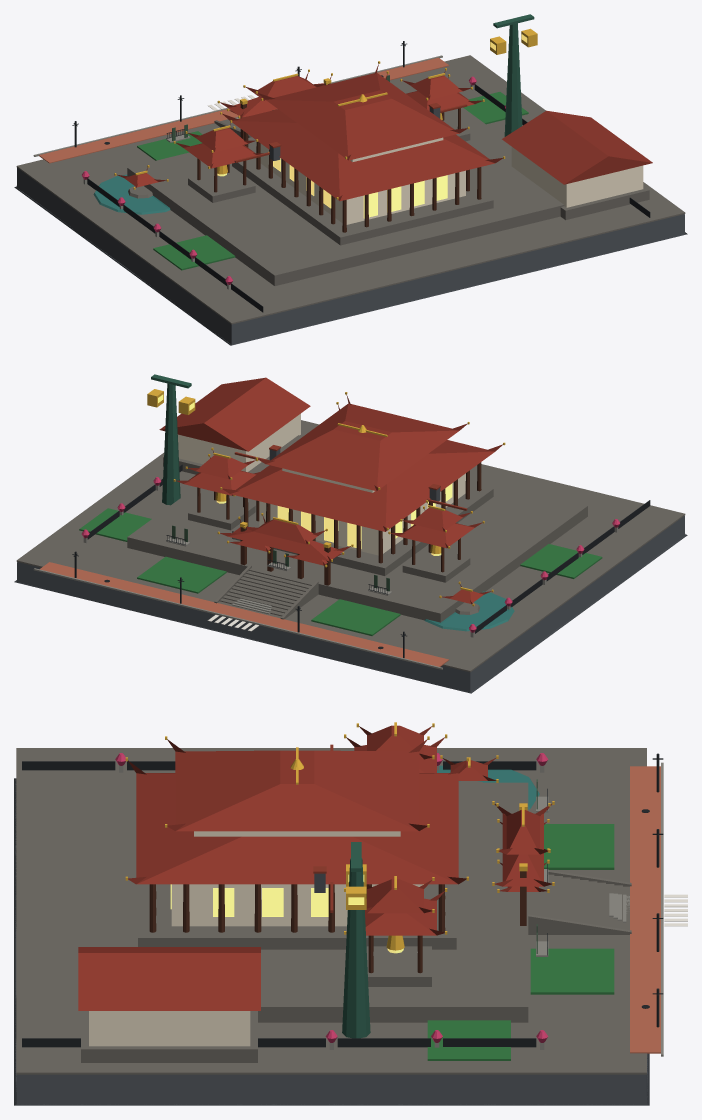
File: lm_15_thien_vien_truc_lam.glb
The picture shows the model from 3 angles, top to bottom: view 1: azimuth 30°, elevation 25°; view 2: azimuth 150°, elevation 25°; view 3: azimuth 270°, elevation 25°; orthographic projection. The views are drawn at different scales.
Visible parts, largest first — view 1: TrucLam_Stone_Steps_And_Plinths, Foundation_Plinth_Trim, TrucLam_Curved_Dao_Roofs, Foundation_Skirt, TrucLam_Cream_Walls, TrucLam_CableCar_Station_Roof, TrucLam_Zen_Gardens, Phase2_Interlocking_Brick_Sidewalk, TrucLam_Ironwood_Pillars, Phase2_WroughtIron_Balconies_Railings_Manholes, Robin_CableCar_Station_And_Pylon, TrucLam_Sanctuary_Lantern_Glow (+3 smaller); view 2: TrucLam_Stone_Steps_And_Plinths, TrucLam_Curved_Dao_Roofs, Foundation_Plinth_Trim, Foundation_Skirt, TrucLam_Zen_Gardens, TrucLam_CableCar_Station_Roof, TrucLam_Cream_Walls, Phase2_Interlocking_Brick_Sidewalk, TrucLam_Ironwood_Pillars, TrucLam_Grand_Dragon_Stairs, Phase2_WroughtIron_Balconies_Railings_Manholes, Phase2_Granite_Curb_And_Entry_Steps (+5 smaller); view 3: Foundation_Plinth_Trim, TrucLam_Curved_Dao_Roofs, TrucLam_Stone_Steps_And_Plinths, Foundation_Skirt, TrucLam_Cream_Walls, TrucLam_CableCar_Station_Roof, TrucLam_Zen_Gardens, Phase2_Interlocking_Brick_Sidewalk, Phase2_WroughtIron_Balconies_Railings_Manholes, TrucLam_Grand_Dragon_Stairs, Robin_CableCar_Station_And_Pylon, TrucLam_Ironwood_Pillars (+7 smaller).
Part boxes in pixels (x1=…): TrucLam_Stone_Steps_And_Plinths: x1=127, y1=107, x2=649, y2=285; Foundation_Plinth_Trim: x1=16, y1=55, x2=685, y2=324; TrucLam_Curved_Dao_Roofs: x1=117, y1=64, x2=502, y2=201; Foundation_Skirt: x1=14, y1=168, x2=687, y2=345; TrucLam_Cream_Walls: x1=260, y1=137, x2=643, y2=224; TrucLam_CableCar_Station_Roof: x1=502, y1=110, x2=652, y2=184; TrucLam_Zen_Gardens: x1=137, y1=92, x2=528, y2=270; Phase2_Interlocking_Brick_Sidewalk: x1=39, y1=57, x2=449, y2=163; TrucLam_Ironwood_Pillars: x1=197, y1=83, x2=481, y2=232; Phase2_WroughtIron_Balconies_Railings_Manholes: x1=72, y1=41, x2=650, y2=312; Robin_CableCar_Station_And_Pylon: x1=493, y1=14, x2=534, y2=136; TrucLam_Sanctuary_Lantern_Glow: x1=217, y1=34, x2=527, y2=218; TrucLam_Stone_Steps_And_Plinths: x1=127, y1=432, x2=587, y2=622; TrucLam_Curved_Dao_Roofs: x1=175, y1=395, x2=502, y2=604; Foundation_Plinth_Trim: x1=16, y1=420, x2=685, y2=672; Foundation_Skirt: x1=14, y1=515, x2=687, y2=693; TrucLam_Zen_Gardens: x1=79, y1=508, x2=602, y2=635; TrucLam_CableCar_Station_Roof: x1=159, y1=377, x2=310, y2=451; TrucLam_Cream_Walls: x1=177, y1=413, x2=465, y2=555; Phase2_Interlocking_Brick_Sidewalk: x1=40, y1=562, x2=448, y2=666; TrucLam_Ironwood_Pillars: x1=197, y1=462, x2=481, y2=585; TrucLam_Grand_Dragon_Stairs: x1=218, y1=567, x2=313, y2=618; Phase2_WroughtIron_Balconies_Railings_Manholes: x1=72, y1=464, x2=650, y2=657; Phase2_Granite_Curb_And_Entry_Steps: x1=33, y1=485, x2=618, y2=669; Foundation_Plinth_Trim: x1=16, y1=748, x2=646, y2=1074; TrucLam_Curved_Dao_Roofs: x1=128, y1=725, x2=551, y2=935; TrucLam_Stone_Steps_And_Plinths: x1=81, y1=781, x2=528, y2=1062; Foundation_Skirt: x1=14, y1=778, x2=649, y2=1105; TrucLam_Cream_Walls: x1=89, y1=831, x2=423, y2=1046; TrucLam_CableCar_Station_Roof: x1=78, y1=947, x2=260, y2=1010; TrucLam_Zen_Gardens: x1=427, y1=824, x2=614, y2=1060; Phase2_Interlocking_Brick_Sidewalk: x1=630, y1=766, x2=660, y2=1053; Phase2_WroughtIron_Balconies_Railings_Manholes: x1=22, y1=753, x2=663, y2=1047; TrucLam_Grand_Dragon_Stairs: x1=528, y1=874, x2=629, y2=930; Robin_CableCar_Station_And_Pylon: x1=342, y1=842, x2=370, y2=1038; TrucLam_Ironwood_Pillars: x1=149, y1=871, x2=526, y2=973.
Bounding box in the file's own units: 78.8 × 23.5 × 68.57.
